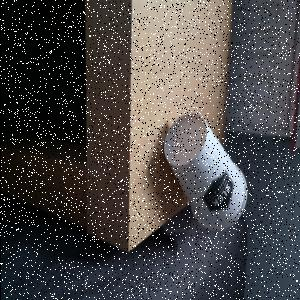Cup: (163, 113, 249, 234)
